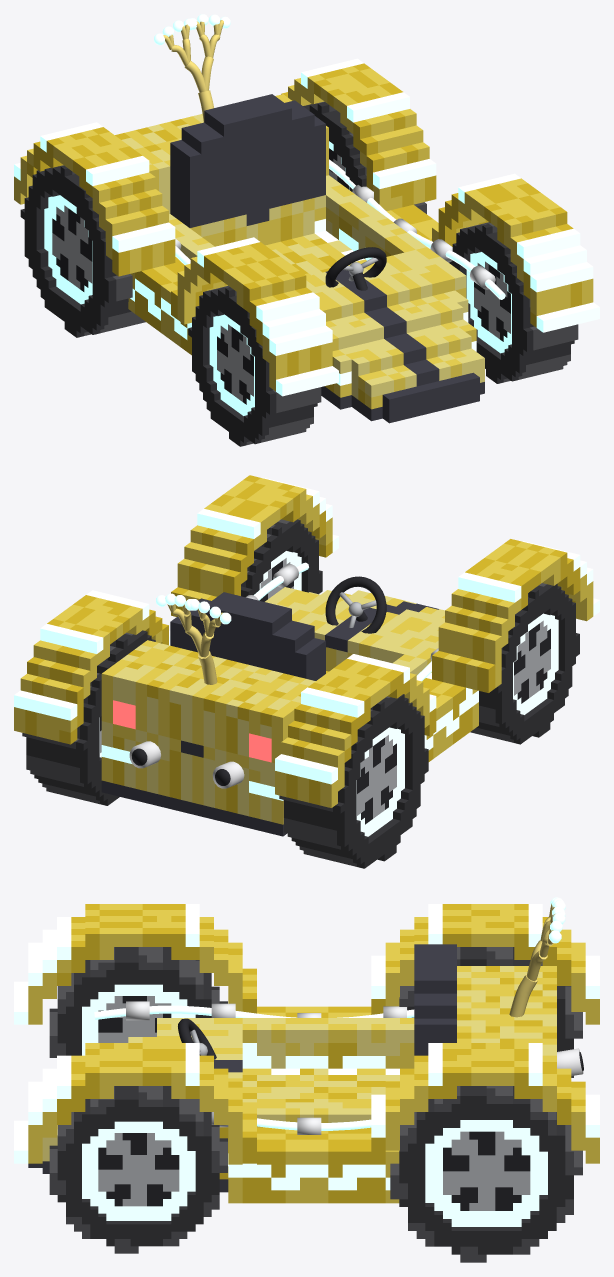
Rendered from K06_NeuronStriker.glb.
3 renders of one model, top to bottom at view 1: azimuth 30°, elevation 25°; view 2: azimuth 150°, elevation 25°; view 3: azimuth 270°, elevation 25°, orthographic. The views are drawn at different scales.
Parts seen in each view (by area): view 1: K06_NeuronStriker_Mesh, K06_Wheel_RL, K06_Wheel_FL, K06_Wheel_FR, K06_Wheel_RR; view 2: K06_NeuronStriker_Mesh, K06_Wheel_RL, K06_Wheel_FL, K06_Wheel_RR, K06_Wheel_FR; view 3: K06_NeuronStriker_Mesh, K06_Wheel_RR, K06_Wheel_FR, K06_Wheel_FL, K06_Wheel_RL.
Boxes of the visible parts, box(x1,y1,x2,y2) form: K06_NeuronStriker_Mesh: box(14, 14, 599, 423); K06_Wheel_RL: box(20, 165, 145, 337); K06_Wheel_FL: box(188, 285, 321, 446); K06_Wheel_FR: box(449, 222, 578, 383); K06_Wheel_RR: box(303, 101, 426, 213); K06_NeuronStriker_Mesh: box(14, 475, 599, 836); K06_Wheel_RL: box(279, 694, 428, 868); K06_Wheel_FL: box(470, 583, 579, 744); K06_Wheel_RR: box(22, 630, 155, 805); K06_Wheel_FR: box(241, 519, 322, 601); K06_NeuronStriker_Mesh: box(14, 897, 599, 1203); K06_Wheel_RR: box(390, 1086, 582, 1262); K06_Wheel_FR: box(49, 1086, 227, 1253); K06_Wheel_FL: box(49, 947, 227, 1057); K06_Wheel_RL: box(399, 947, 582, 1077).
Size of the model in its own units: 1.69 by 1.26 by 2.46.
